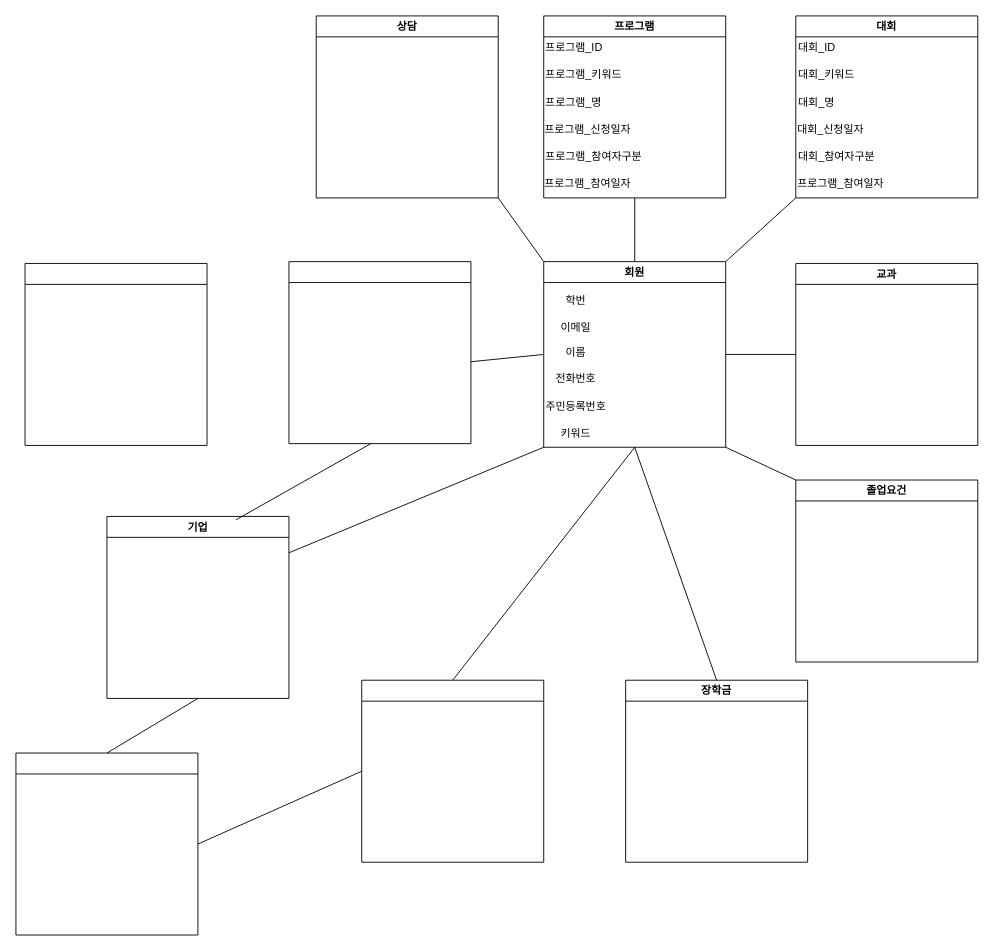
This 994x951 diagram has some shape labels left out. The centre of each missing label's shape, as x and y in pixels:
"IPP" belongs at point (379, 352).
"자격증" belongs at point (452, 770).
"졸업생" belongs at point (106, 843).
"프로그램 코드" belongs at point (115, 354).
